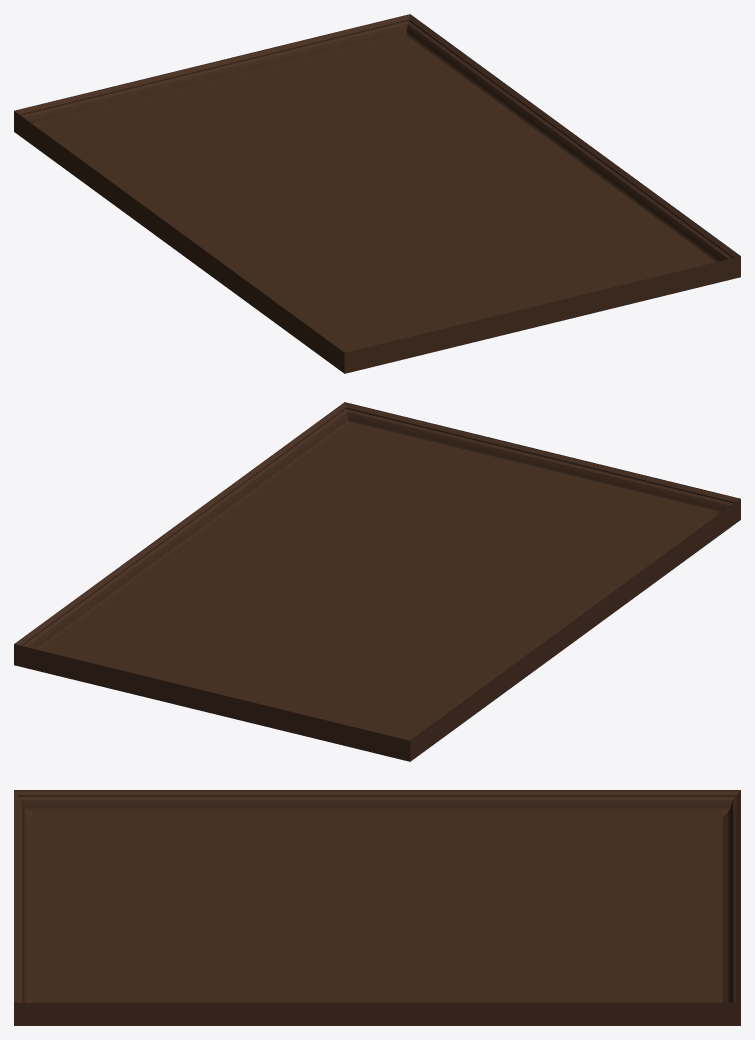
The model's file is KRESLSARFOTO1.glb.
The picture shows the model from 3 angles, top to bottom: view 1: azimuth 30°, elevation 25°; view 2: azimuth 150°, elevation 25°; view 3: azimuth 270°, elevation 25°; orthographic projection. The views are drawn at different scales.
Parts seen in each view (by area): view 1: NurbsPath.017, NurbsPath.015; view 2: NurbsPath.017, NurbsPath.015; view 3: NurbsPath.017, NurbsPath.015.
Boxes of the visible parts, left/top/right/bottom form: NurbsPath.017: left=14, top=14, right=740, bottom=373; NurbsPath.015: left=15, top=14, right=739, bottom=352; NurbsPath.017: left=14, top=402, right=740, bottom=761; NurbsPath.015: left=15, top=402, right=739, bottom=740; NurbsPath.017: left=14, top=790, right=740, bottom=1025; NurbsPath.015: left=14, top=790, right=740, bottom=1002.
Bounding box in the file's own units: 0.3629 × 0.0185 × 0.5246.
